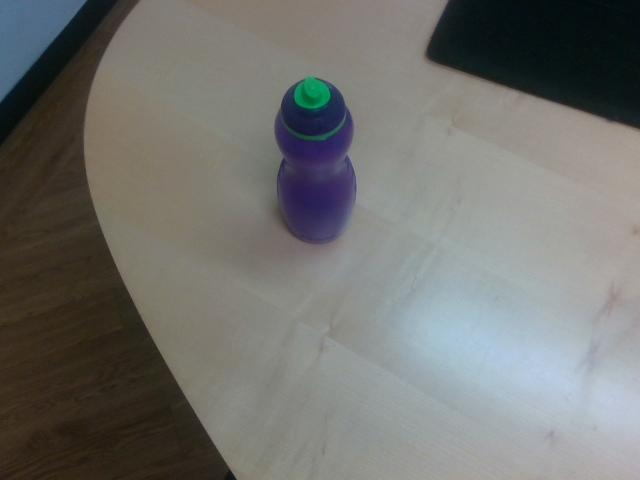bottle: (274, 78, 356, 244)
